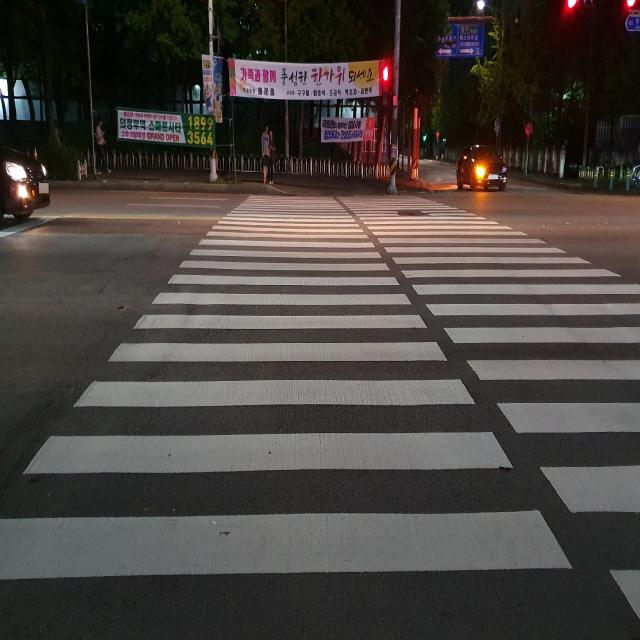빨간불: (382, 62, 391, 108)
횡단보도: (0, 193, 640, 640)
